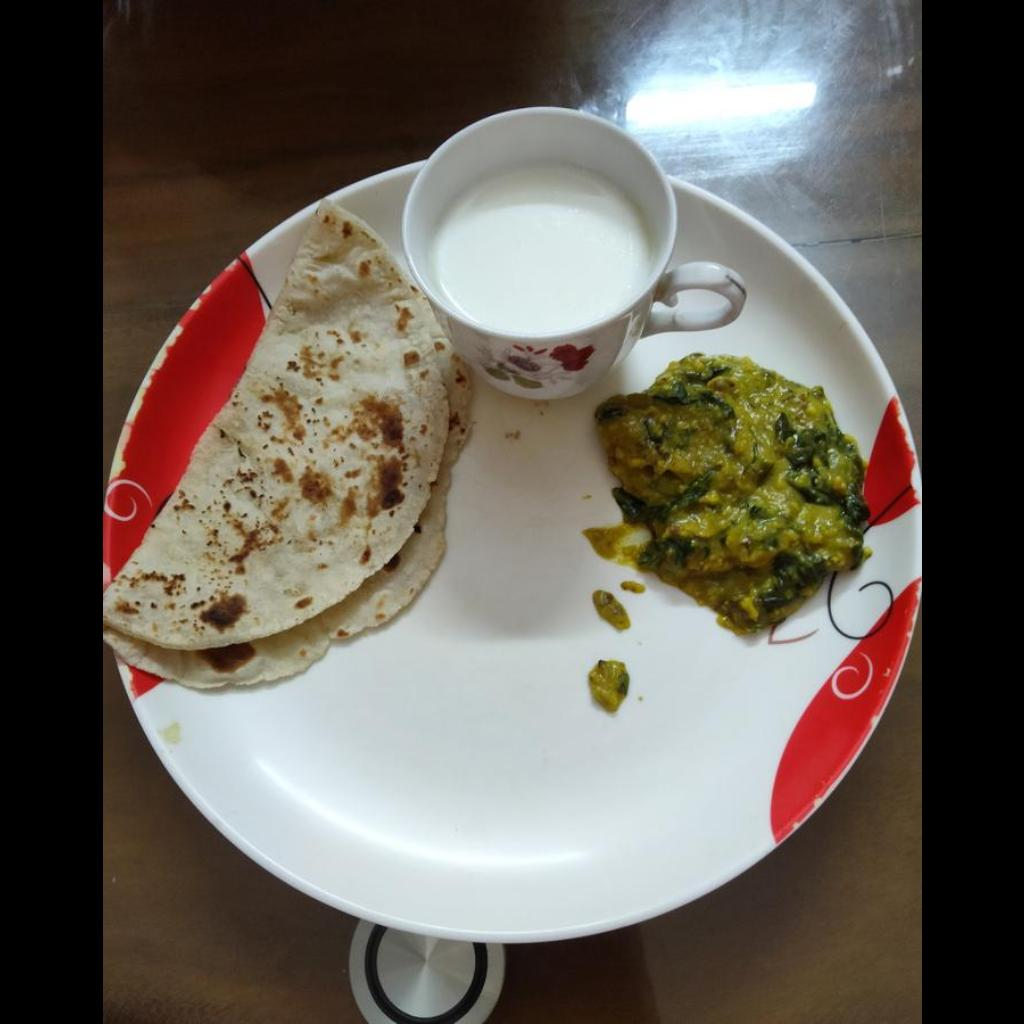daal: (600, 354, 865, 629)
milk: (432, 162, 652, 329)
ruti: (102, 200, 471, 691)
